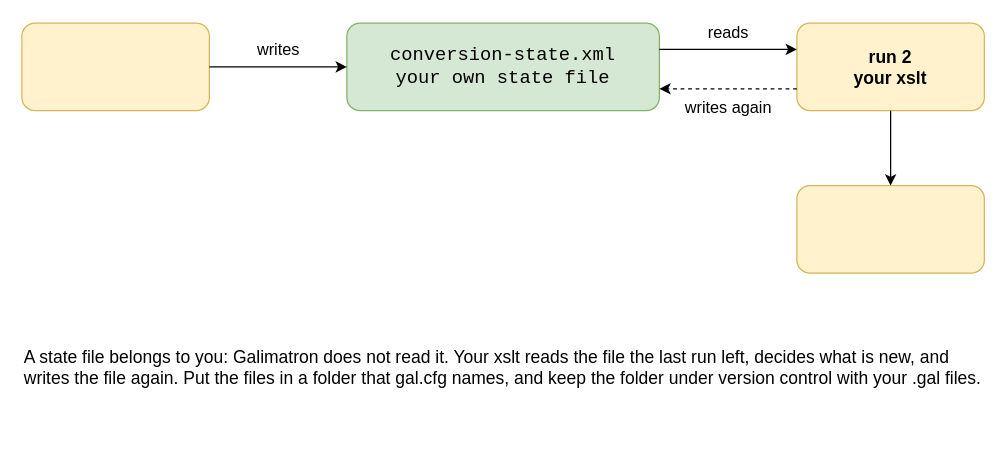
This 1006x456 diagram has some shape labels left out. Here are the shapes that lost their labels. From the top down, the centre of each, then its label:
point 115,66: run 1 your xslt
point 890,228: run 3 your xslt
